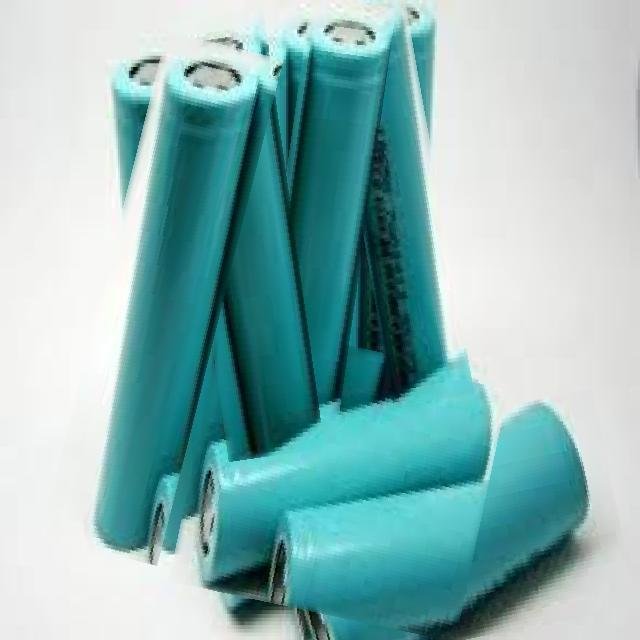Battery: (89, 56, 254, 552), (197, 377, 496, 580), (285, 19, 386, 403), (218, 117, 322, 455), (362, 16, 453, 401), (183, 308, 248, 523), (109, 45, 168, 193)
